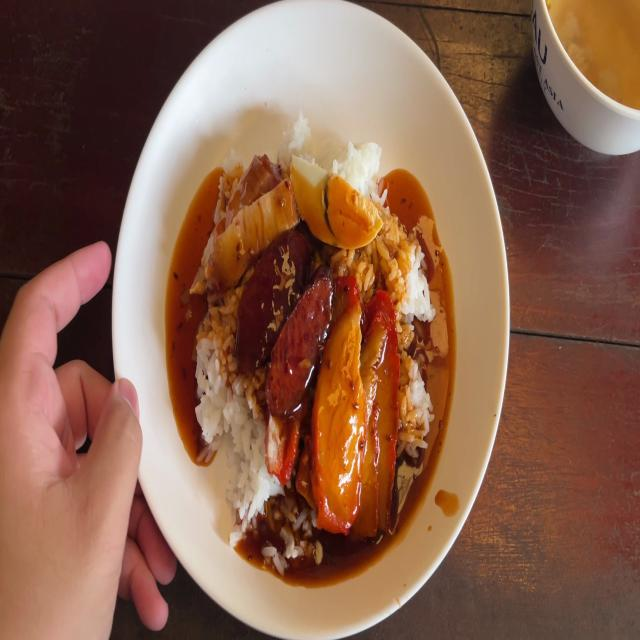red_pork_and_crispy_pork: (291, 156, 385, 250)
stir_fried_basil: (236, 228, 334, 404)
